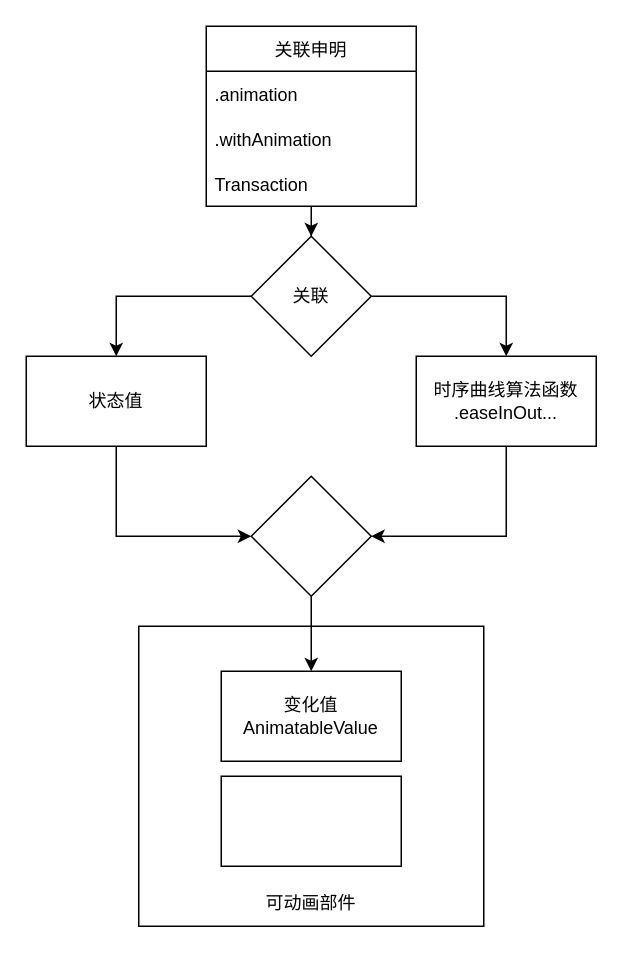
This 623x953 diagram has some shape labels left out. Each missing label, with the box of its shape:
动作类型 offset ...: (220, 775, 401, 866)
驱动: (250, 475, 371, 596)
